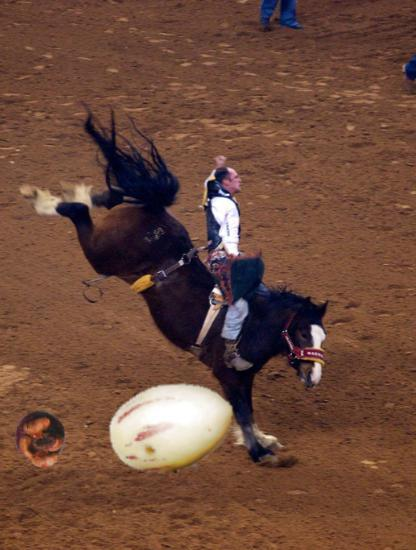Mangostan: (11, 410, 71, 470)
Pepino: (108, 365, 236, 493)
